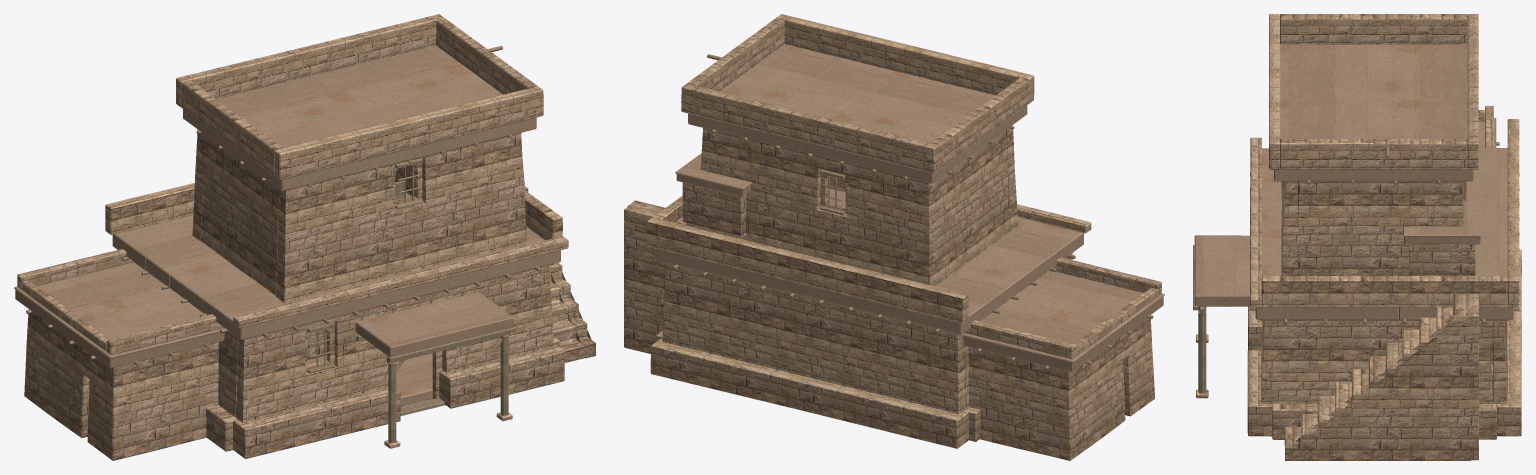
3 views of the same model, side by side, from view 1: azimuth 30°, elevation 25°; view 2: azimuth 150°, elevation 25°; view 3: azimuth 270°, elevation 25° (orthographic). The views are drawn at different scales.
Parts seen in each view (by area): view 1: house; view 2: house; view 3: house.
Part boxes in pixels (bbox=[...]): house: bbox=[14, 14, 595, 460]; house: bbox=[624, 14, 1164, 460]; house: bbox=[1193, 14, 1521, 460].
Bounding box in the file's own units: 15.21 × 8.7 × 8.96.
Materials: 3 (3 with a texture image).
